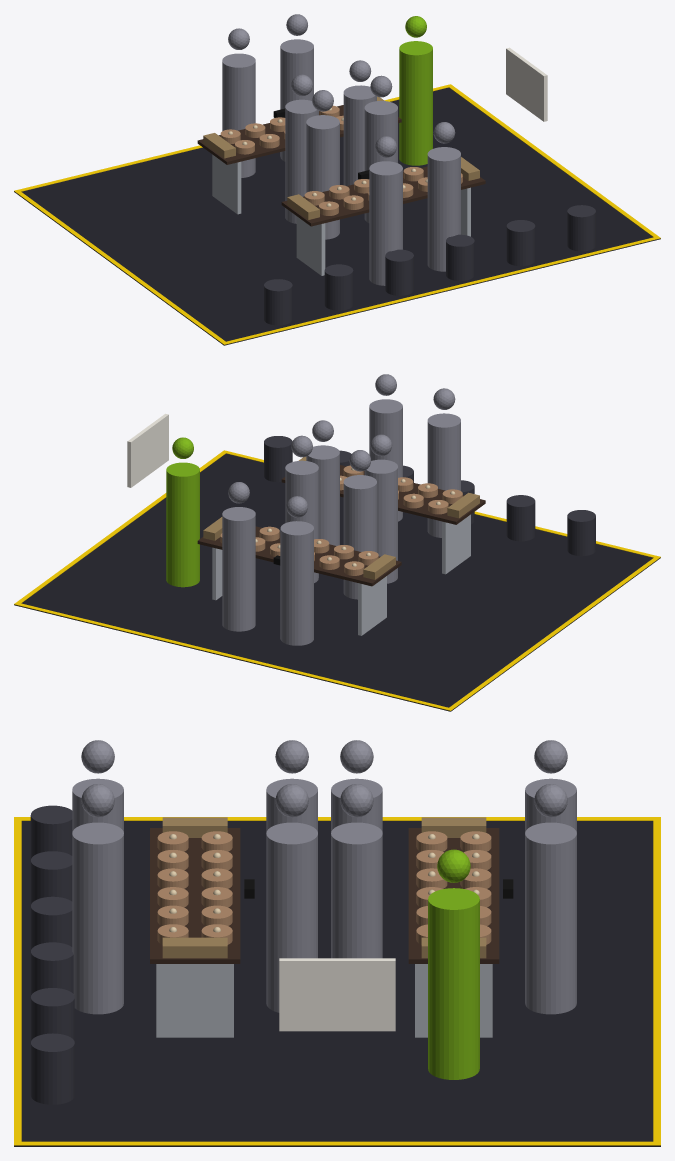
The model's file is G09_HARVEST.obj.
3 renders of one model, top to bottom at view 1: azimuth 30°, elevation 25°; view 2: azimuth 150°, elevation 25°; view 3: azimuth 270°, elevation 25°, orthographic. The views are drawn at different scales.
Visible parts, largest first — view 1: floor_area, operator_body, player_1_-1_0.4_body, player_1_-1_-0.4_body, player_0_1_-0.4_body, player_1_1_-0.4_body, player_0_-1_-0.4_body, player_0_-1_0.4_body, bracket_board, player_1_1_0.4_body, player_0_1_0.4_body, board_1 (+15 smaller); view 2: floor_area, player_0_1_-0.4_body, player_0_1_0.4_body, operator_body, player_1_-1_-0.4_body, player_0_-1_-0.4_body, player_1_1_-0.4_body, player_1_1_0.4_body, bracket_board, player_0_-1_0.4_body, player_1_-1_0.4_body, board_0 (+13 smaller); view 3: floor_area, player_0_1_0.4_body, operator_body, player_1_-1_0.4_body, bracket_board, player_1_1_0.4_body, player_0_-1_0.4_body, trestle_1_1.0, board_1, safety_border_e, board_0, spectator_stool_5 (+25 smaller).
Part boxes in pixels (box(x1,y1,x2,y2)): floor_area: box(14, 87, 660, 345); operator_body: box(399, 41, 432, 165); player_1_-1_0.4_body: box(427, 147, 460, 271); player_1_-1_-0.4_body: box(369, 161, 402, 285); player_0_1_-0.4_body: box(222, 53, 255, 177); player_1_1_-0.4_body: box(306, 115, 339, 239); player_0_-1_-0.4_body: box(285, 99, 318, 223); player_0_-1_0.4_body: box(343, 85, 376, 185); bracket_board: box(506, 47, 547, 121); player_1_1_0.4_body: box(364, 101, 397, 222); player_0_1_0.4_body: box(280, 39, 313, 161); board_1: box(281, 166, 485, 226); floor_area: box(14, 453, 660, 711); player_0_1_-0.4_body: box(280, 521, 313, 645); player_0_1_0.4_body: box(222, 507, 255, 631); operator_body: box(166, 462, 199, 587); player_1_-1_-0.4_body: box(427, 413, 460, 537); player_0_-1_-0.4_body: box(343, 475, 376, 599); player_1_1_-0.4_body: box(364, 459, 397, 583); player_1_1_0.4_body: box(306, 445, 339, 545); bracket_board: box(127, 413, 168, 487); player_0_-1_0.4_body: box(285, 460, 318, 582); player_1_-1_0.4_body: box(369, 399, 402, 521); board_0: box(197, 526, 401, 586); floor_area: box(14, 821, 660, 1146); player_0_1_0.4_body: box(525, 822, 576, 1014); operator_body: box(428, 888, 479, 1079); player_1_-1_0.4_body: box(72, 822, 123, 1014); bracket_board: box(279, 958, 395, 1031); player_1_1_0.4_body: box(266, 822, 317, 1012); player_0_-1_0.4_body: box(331, 822, 382, 958); trestle_1_1.0: box(156, 964, 233, 1037); board_1: box(150, 828, 240, 963); safety_border_e: box(14, 1141, 660, 1145); board_0: box(408, 828, 499, 963); spectator_stool_5: box(30, 1033, 74, 1104).
Size of the model in its own units: 6 by 1.87 by 5.
